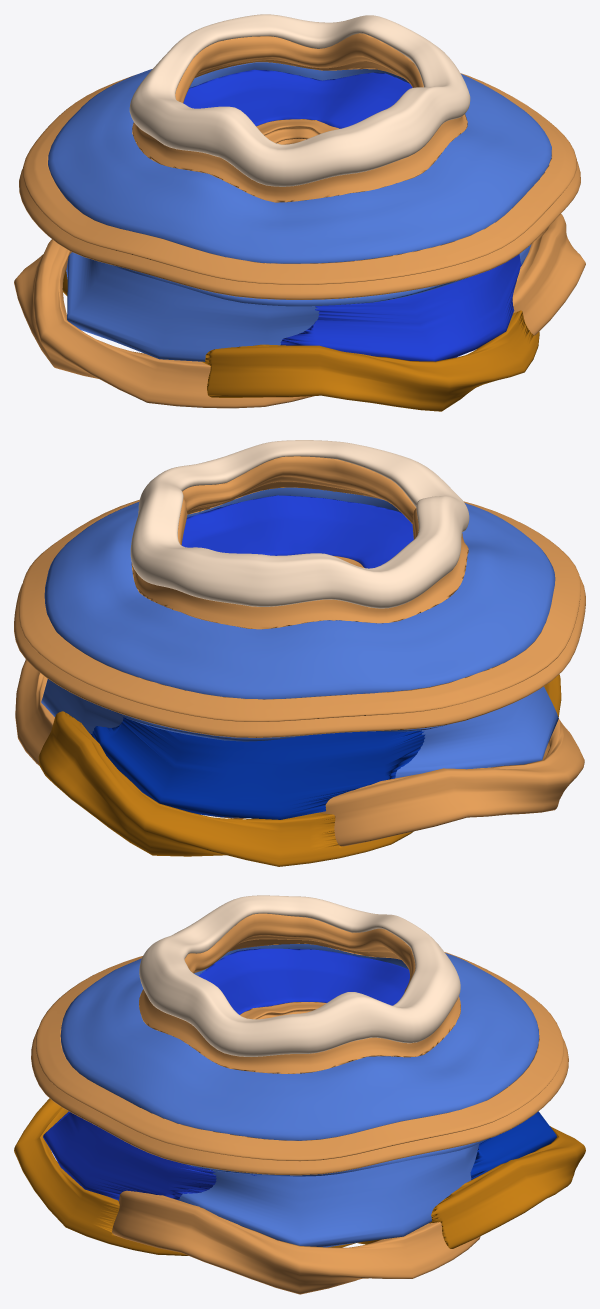
Rendered from handshake.glb.
3 views of the same model, one above another, from view 1: azimuth 30°, elevation 25°; view 2: azimuth 150°, elevation 25°; view 3: azimuth 270°, elevation 25° (orthographic). The views are drawn at different scales.
Visible parts, largest first — view 1: Vert.037, Vert.029, Vert.033, Vert.015, Vert.023, Vert.024, Vert.032, Vert.026, Vert.030, Vert.034; view 2: Vert.037, Vert.029, Vert.033, Vert.025, Vert.023, Vert.015, Vert.032, Vert.030, Vert.024; view 3: Vert.037, Vert.029, Vert.033, Vert.024, Vert.015, Vert.023, Vert.032, Vert.030, Vert.026, Vert.025, Vert.034.
Boxes of the visible parts, box(x1,y1,x2,y2) form: Vert.037: box(48, 62, 551, 306); Vert.029: box(19, 73, 580, 299); Vert.033: box(129, 14, 470, 186); Vert.015: box(14, 214, 585, 408); Vert.023: box(62, 269, 539, 411); Vert.024: box(66, 244, 531, 361); Vert.032: box(132, 33, 467, 202); Vert.026: box(280, 254, 521, 361); Vert.030: box(183, 69, 412, 128); Vert.034: box(256, 119, 339, 144); Vert.037: box(44, 487, 555, 741); Vert.029: box(14, 499, 585, 737); Vert.033: box(130, 440, 469, 608); Vert.025: box(91, 717, 425, 819); Vert.023: box(38, 674, 561, 866); Vert.015: box(15, 659, 584, 846); Vert.032: box(131, 456, 468, 629); Vert.030: box(181, 495, 413, 568); Vert.024: box(41, 679, 558, 778); Vert.037: box(60, 944, 539, 1176); Vert.029: box(31, 952, 568, 1175); Vert.033: box(139, 895, 460, 1056); Vert.024: box(179, 1143, 479, 1247); Vert.015: box(112, 1190, 480, 1294); Vert.023: box(14, 1098, 585, 1255); Vert.032: box(139, 913, 460, 1073); Vert.030: box(198, 948, 409, 1014); Vert.026: box(43, 1111, 256, 1200); Vert.025: box(470, 1111, 556, 1179); Vert.034: box(240, 1002, 326, 1019).
Bounding box in the file's own units: 2.69 × 1.21 × 2.69.
